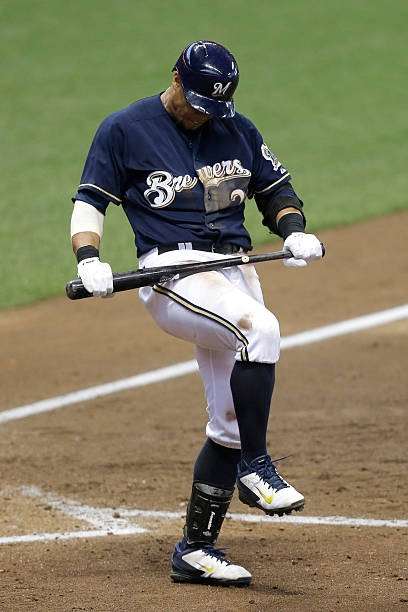bita: (65, 237, 327, 306)
